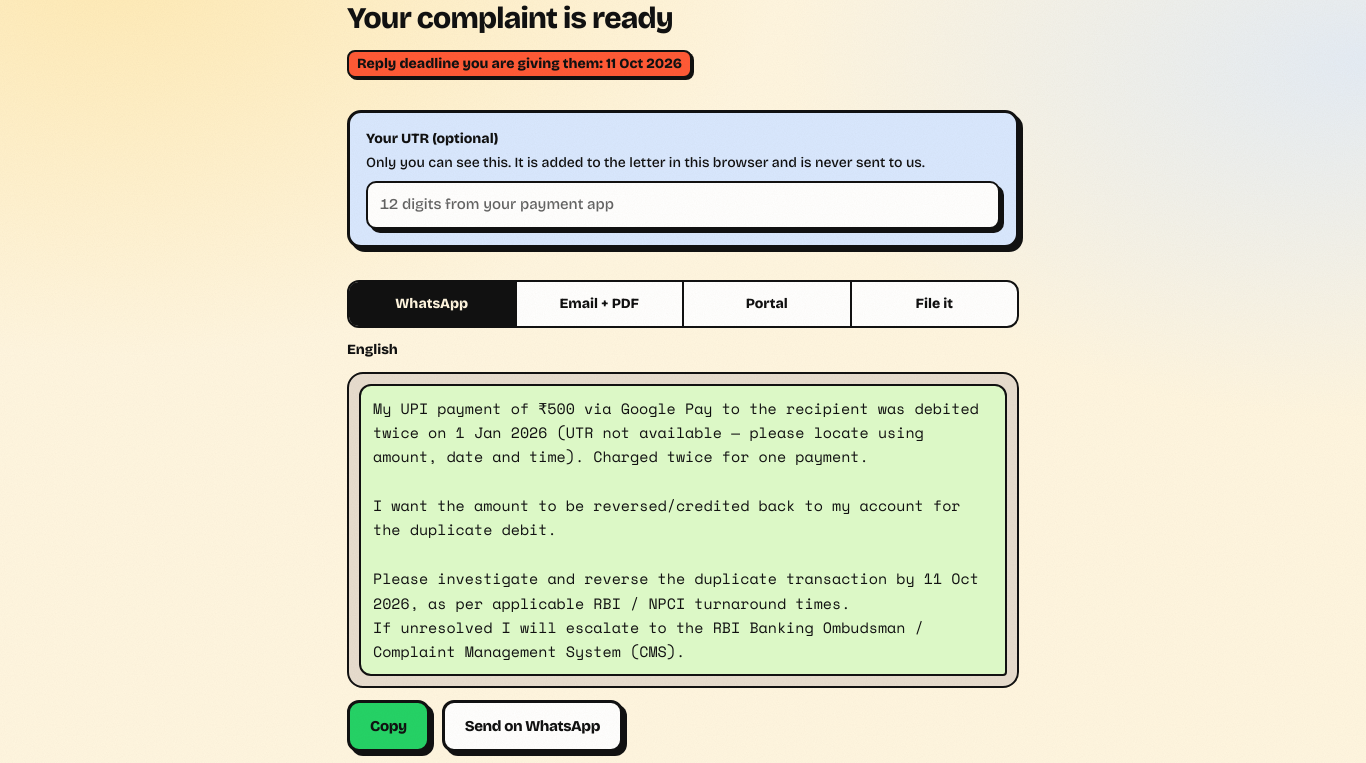
Test: PacketView › shows the bank answers only for UPI letters
Step 1. Click the tab "Portal" → (768, 304), box [684,282,852,326]
(page scrolled)
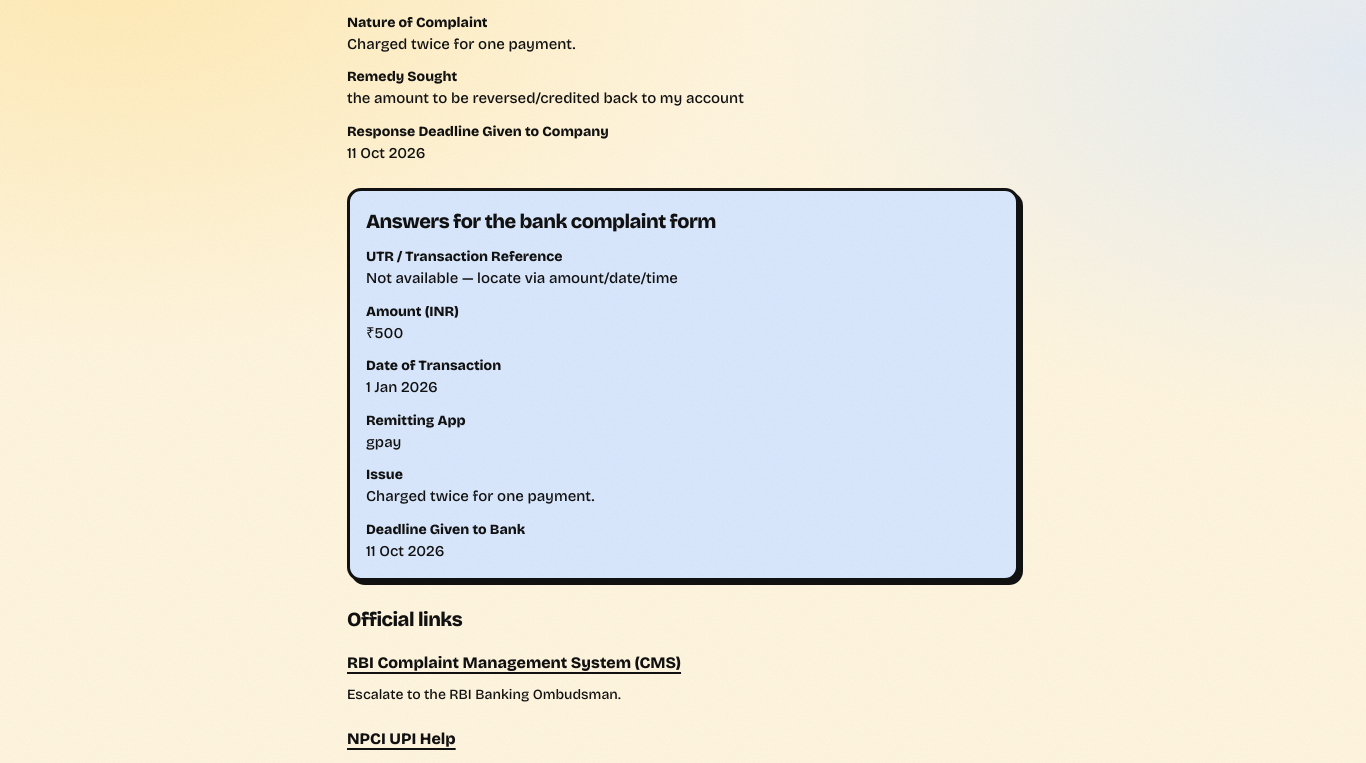
Expected: the element "Answers for the bank complaint form" is shown, [347,188,1019,581]
